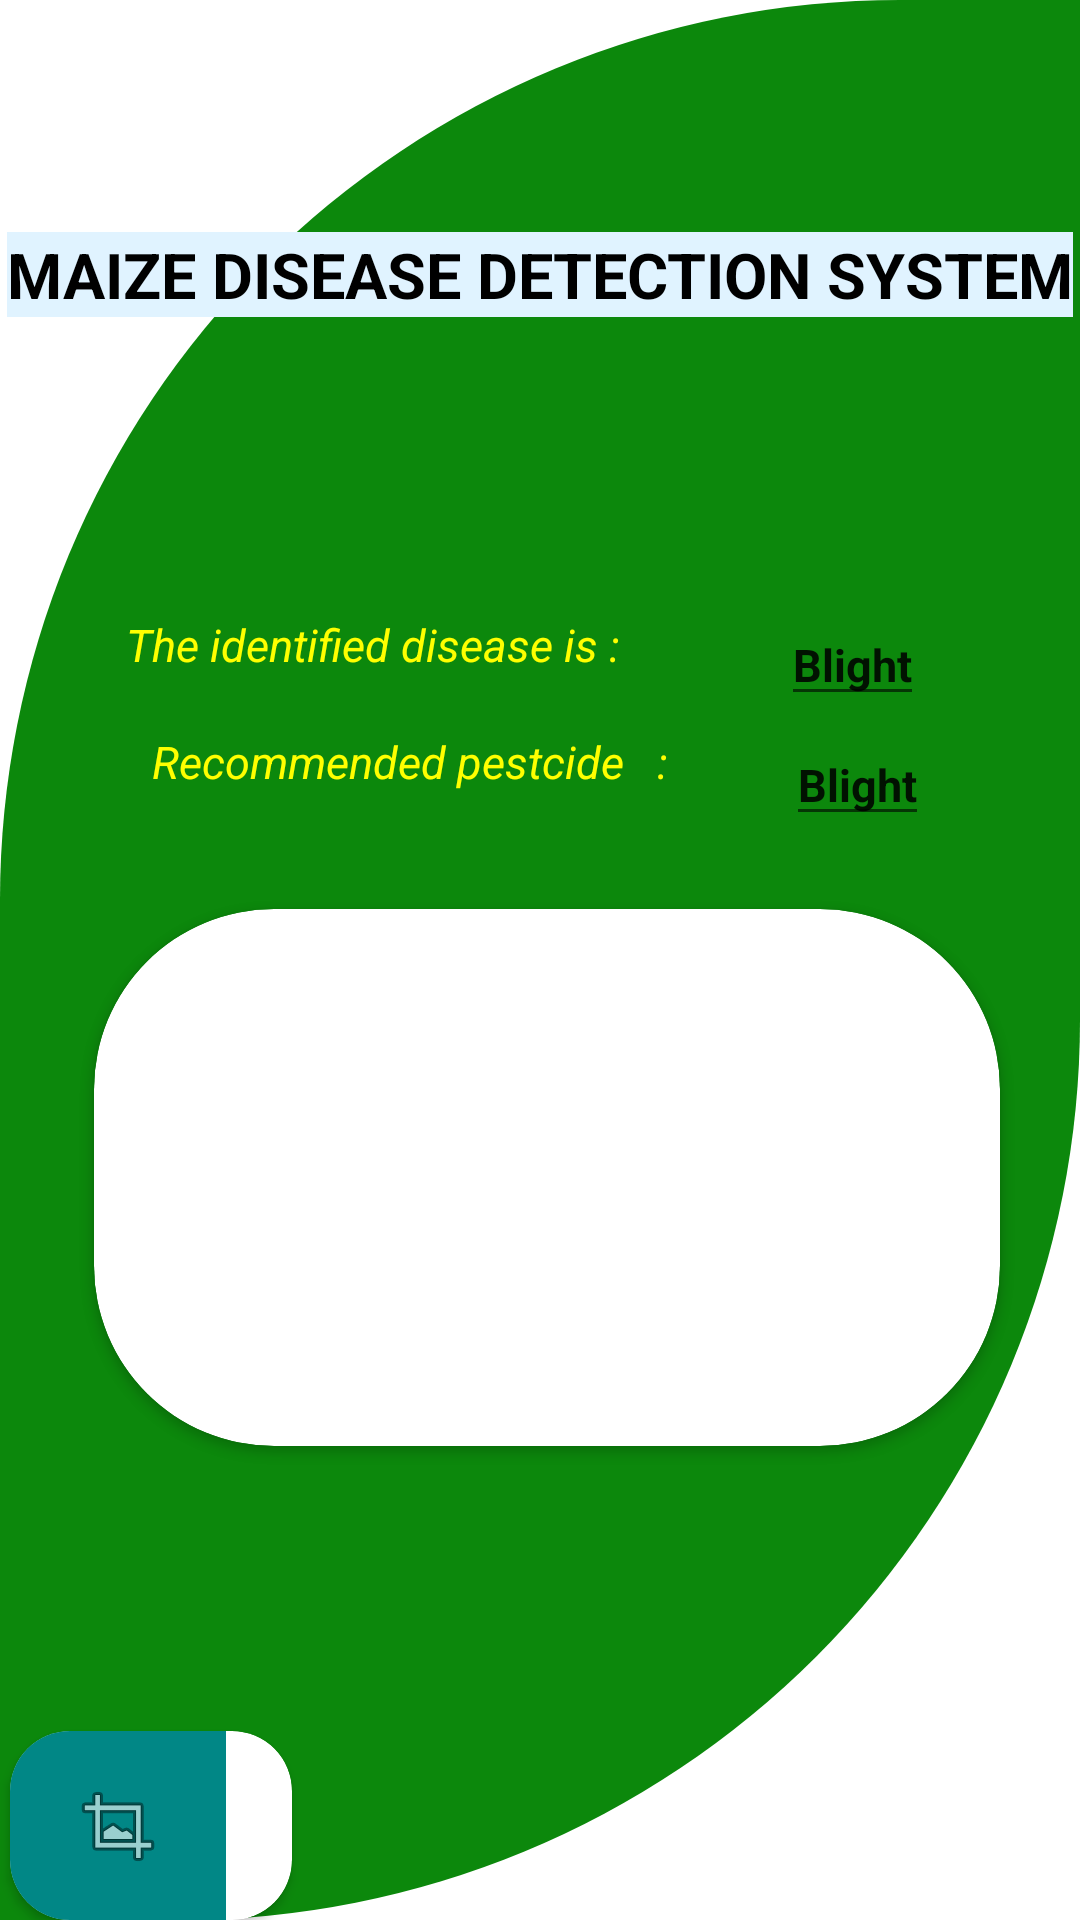

Screen size 1080x1920. Icon name, then its center in pixels as point (x, y):
crop: point (118, 1825)
